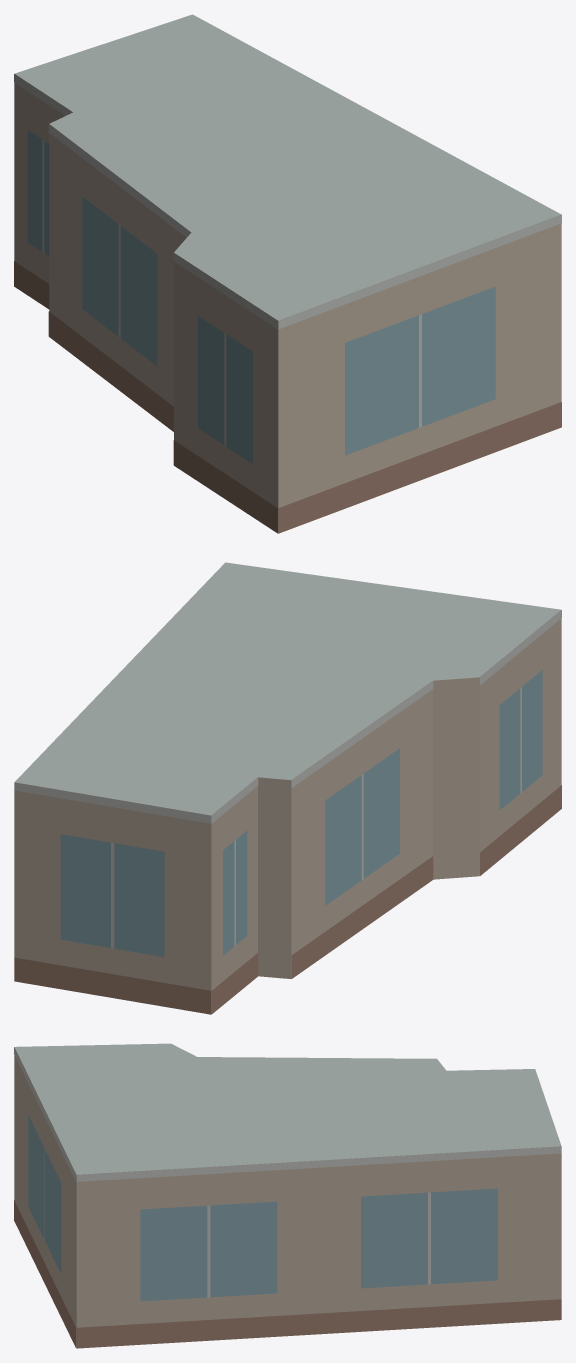
Rendered from survey-upis-32636222.glb.
The picture shows the model from 3 angles, top to bottom: view 1: azimuth 30°, elevation 25°; view 2: azimuth 150°, elevation 25°; view 3: azimuth 270°, elevation 25°; orthographic projection. The views are drawn at different scales.
Visible parts, largest first — view 1: survey-upis-32636222.tmp; view 2: survey-upis-32636222.tmp; view 3: survey-upis-32636222.tmp.
Part boxes in pixels (left/top/right/bottom): survey-upis-32636222.tmp: left=14, top=14, right=561, bottom=533; survey-upis-32636222.tmp: left=14, top=562, right=561, bottom=1014; survey-upis-32636222.tmp: left=14, top=1043, right=561, bottom=1348.
Bounding box in the file's own units: 4.96 × 3.05 × 8.73.
